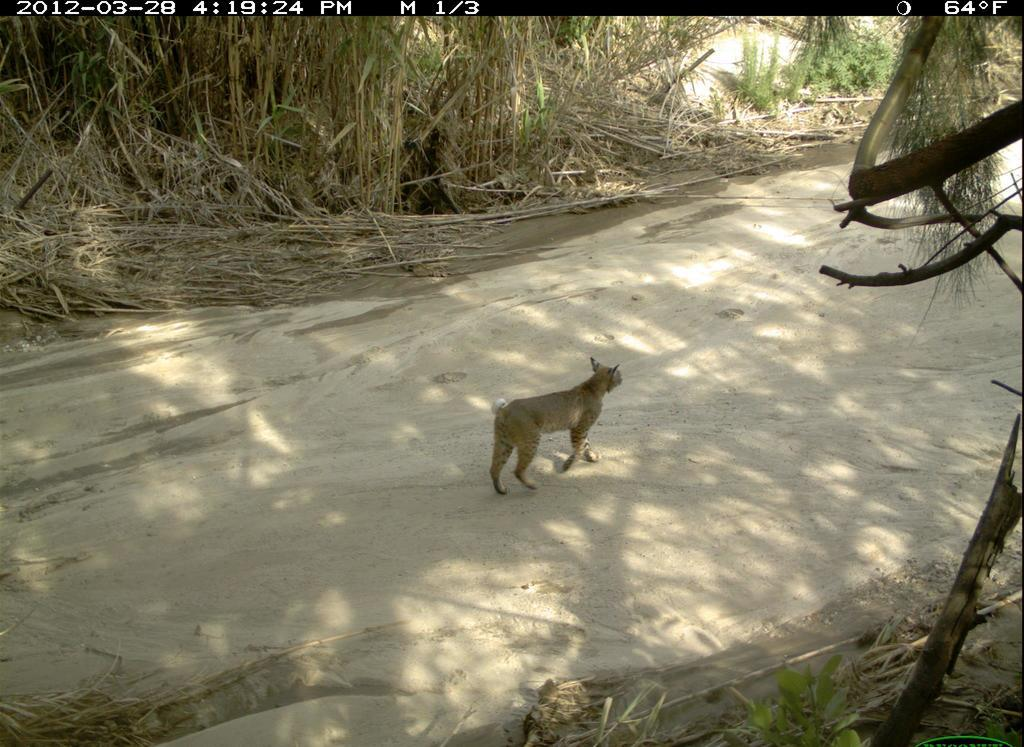bobcat: (482, 358, 644, 497)
